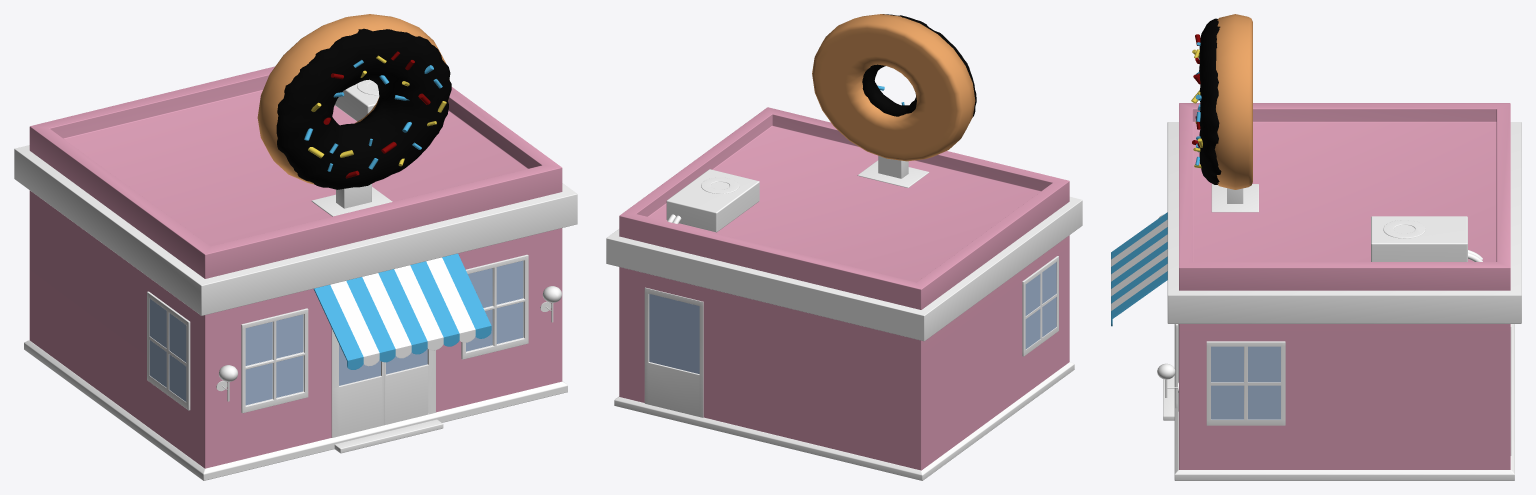
File: Building #15.fbx
3 views of the same model, side by side, from view 1: azimuth 30°, elevation 25°; view 2: azimuth 150°, elevation 25°; view 3: azimuth 270°, elevation 25° (orthographic). The views are drawn at different scales.
Parts seen in each view (by area): view 1: donut house; view 2: donut house; view 3: donut house.
Boxes of the visible parts, x1,y1,x2,y2 form: donut house: [14, 14, 577, 480]; donut house: [606, 14, 1082, 480]; donut house: [1111, 14, 1521, 480].
Bounding box in the file's own units: 200 × 200 × 200.
